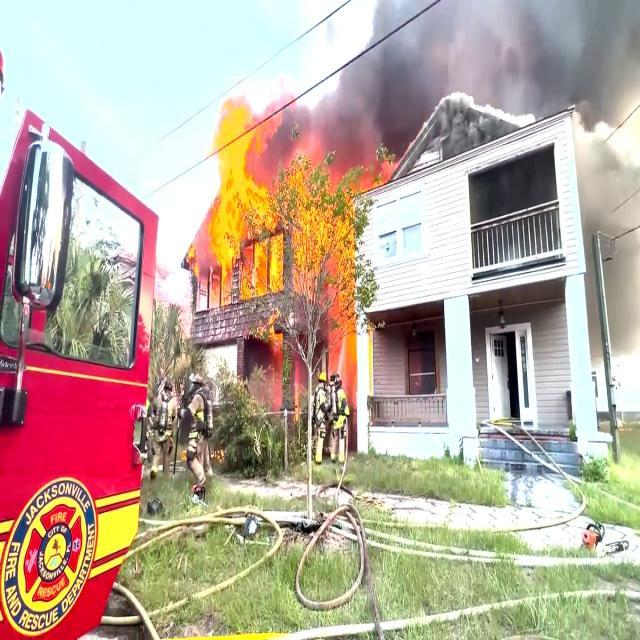Fire: (215, 110, 288, 292), (299, 197, 354, 393)
Smoke: (312, 0, 640, 98)
